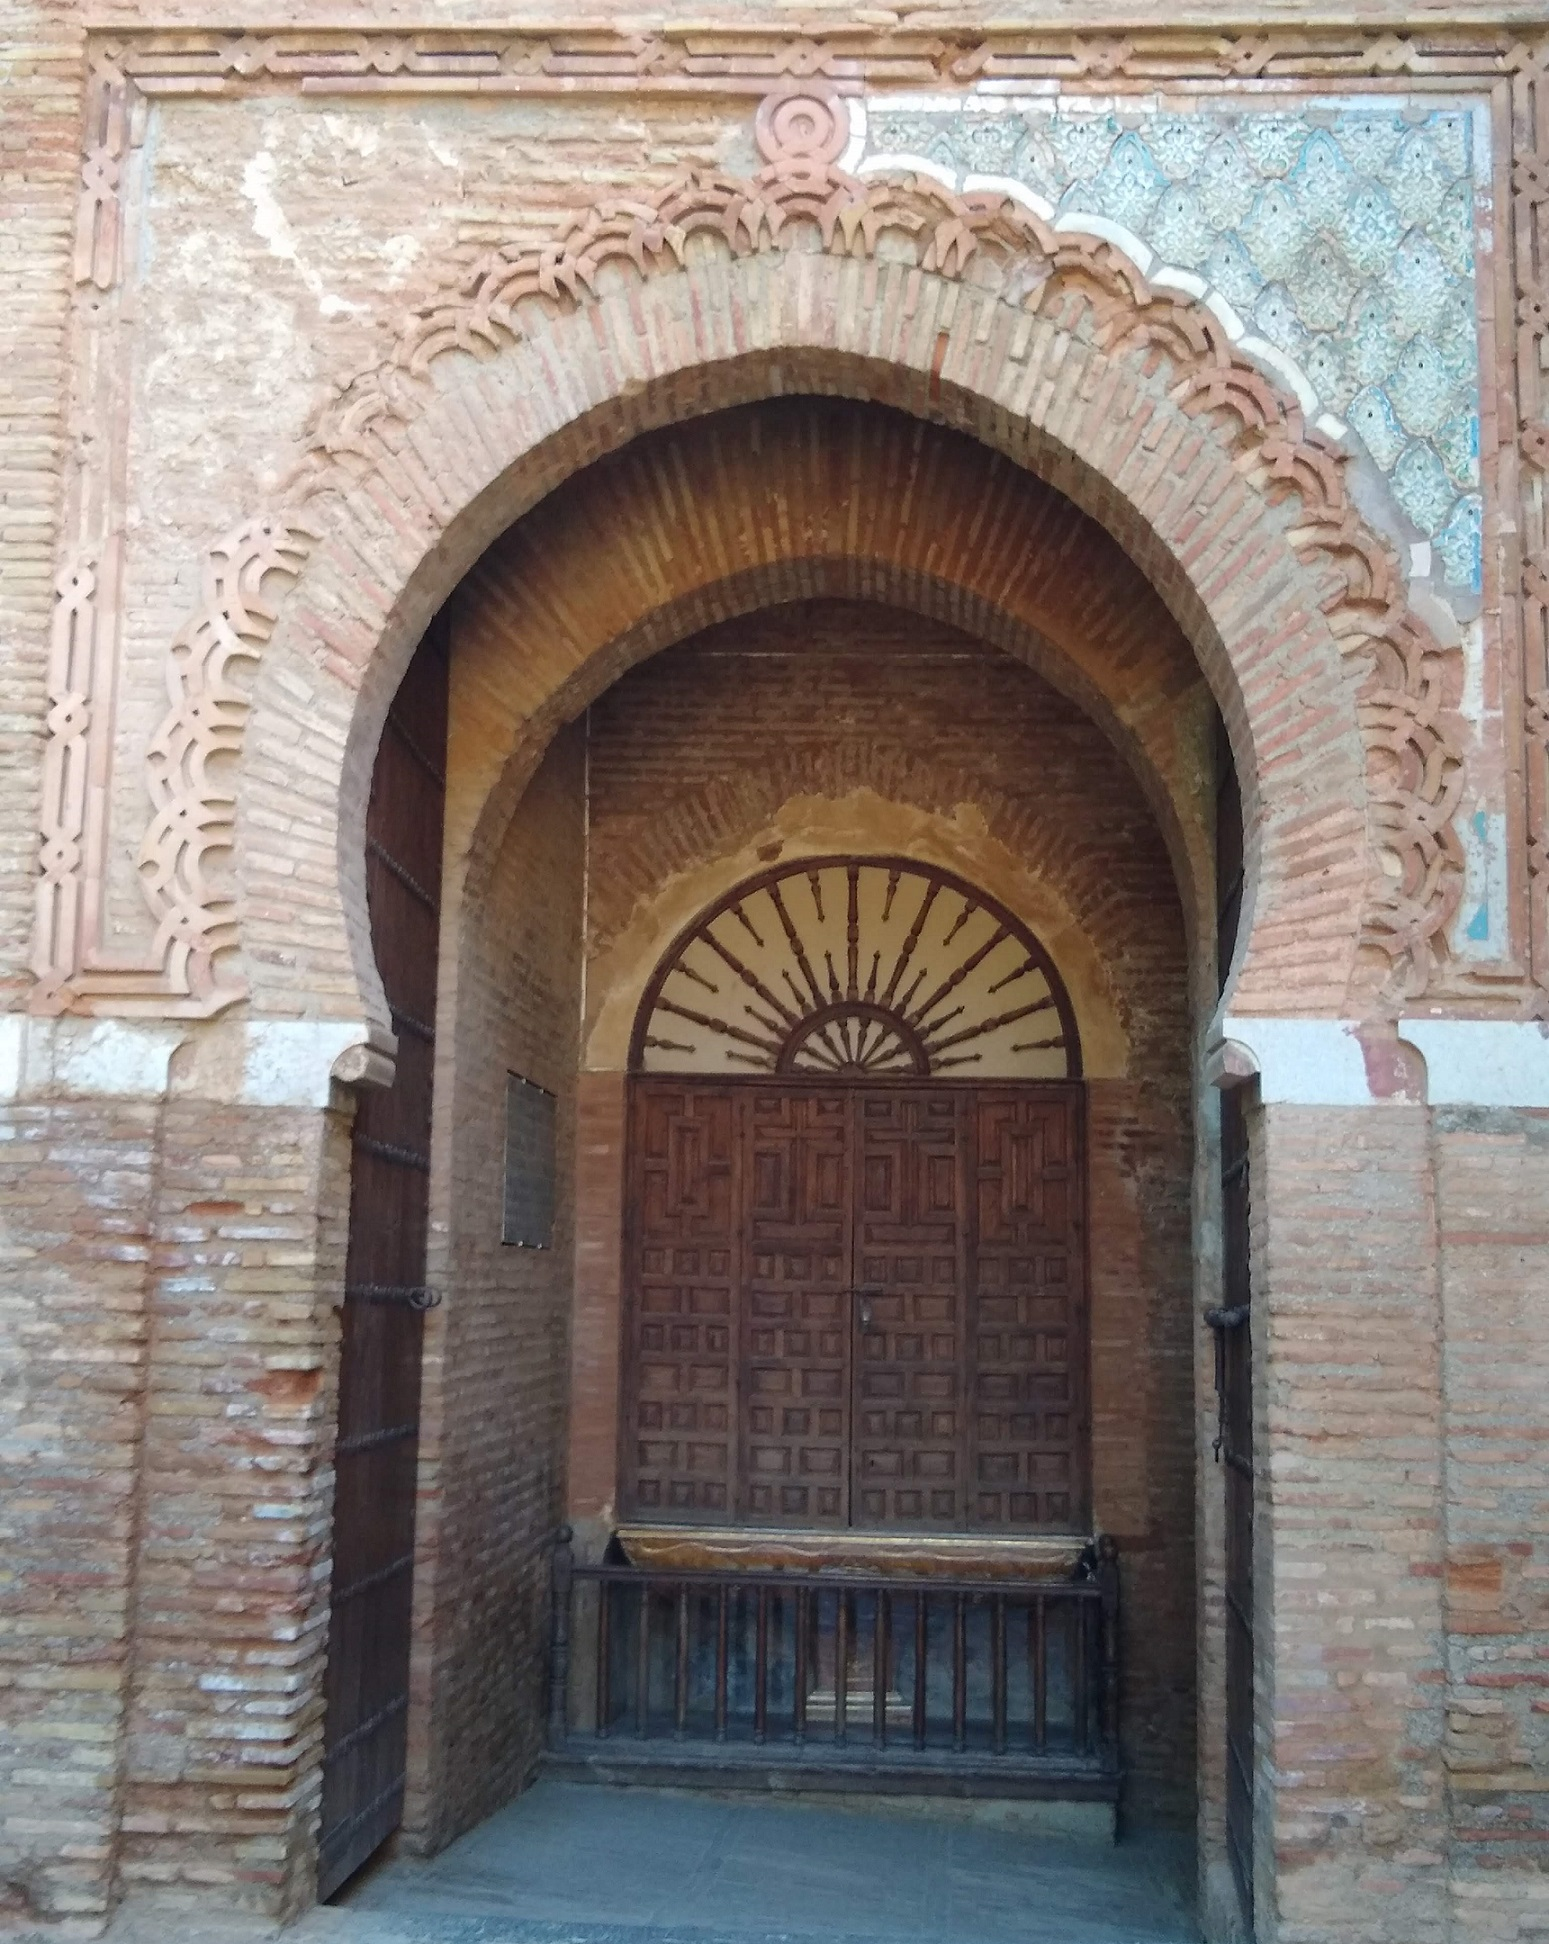arco-herradura: (269, 281, 1351, 1198)
